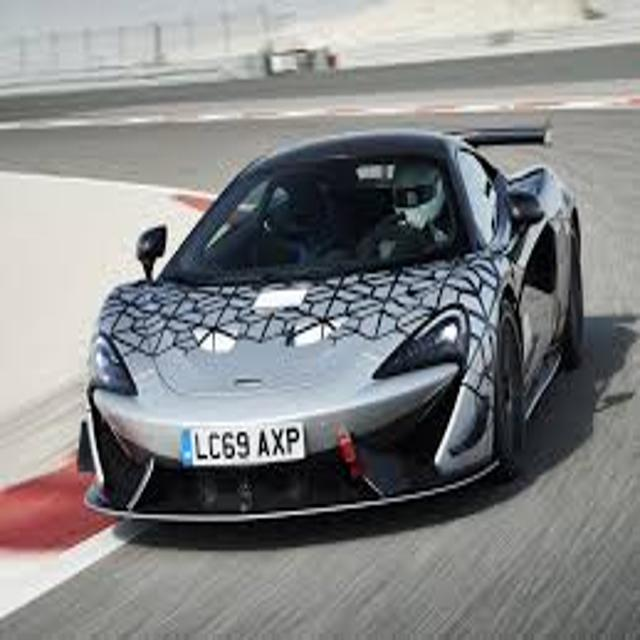car: (77, 119, 582, 522)
